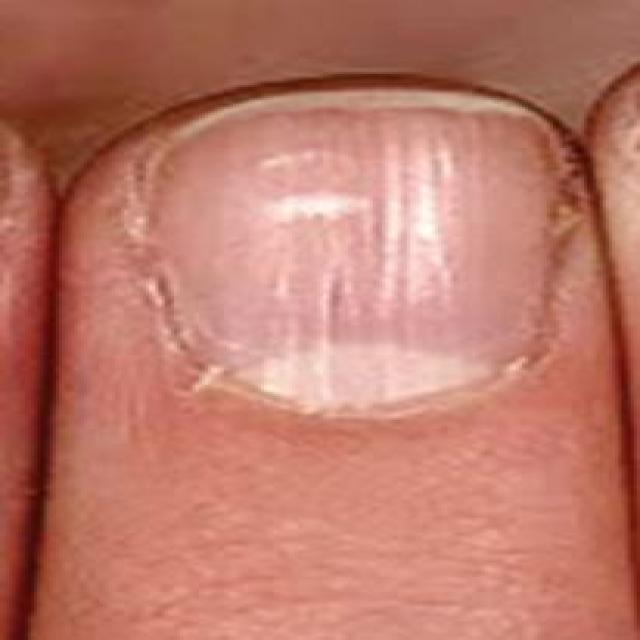Nail: (144, 90, 560, 409)
